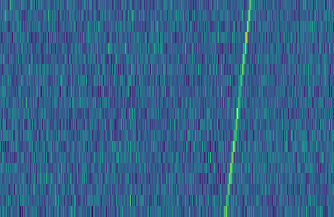signal: (222, 0, 257, 217)
